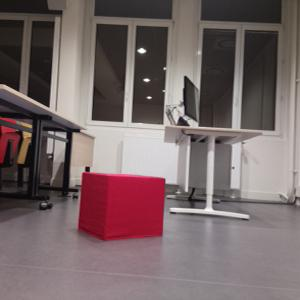medium: (76, 170, 167, 243)
